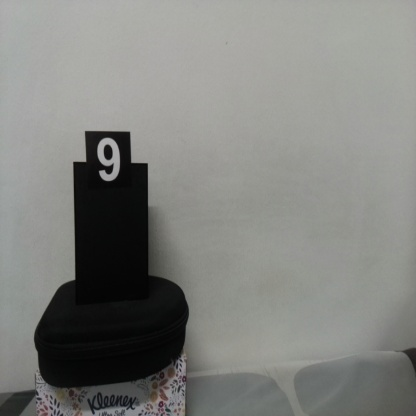id_9: (85, 132, 131, 201)
